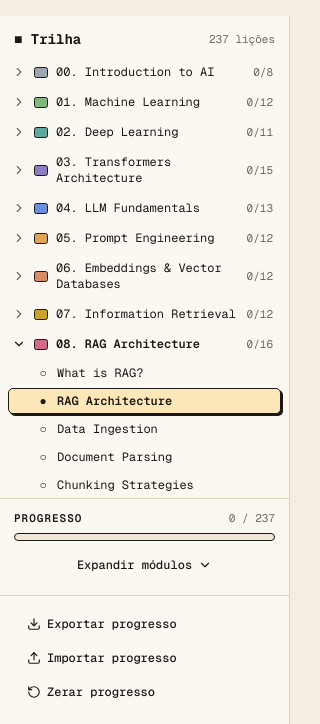
Test: CourseSidebar › ao expandir um módulo, lista as aulas na ordem do roadmap (NAV-01.2)
What coordinates should you click on to do the following:
click the button "03. Transformers Architecture 0/15"
I would click on:
 (144, 170)
Its box is [8,148,281,192].
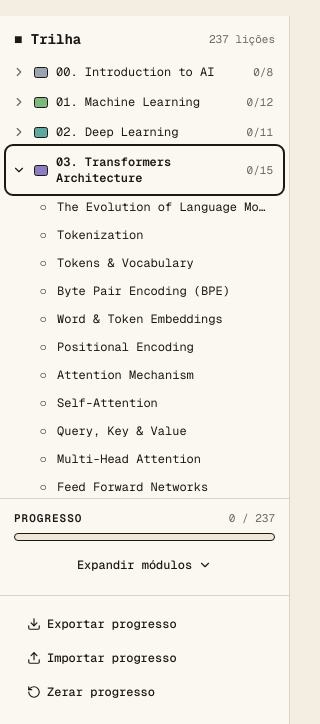
expect the list with id "module-panel-03" is shown: met, box [8,194,281,498]
expect the text "Self-Attention" is shown: met, box [57,395,158,411]
